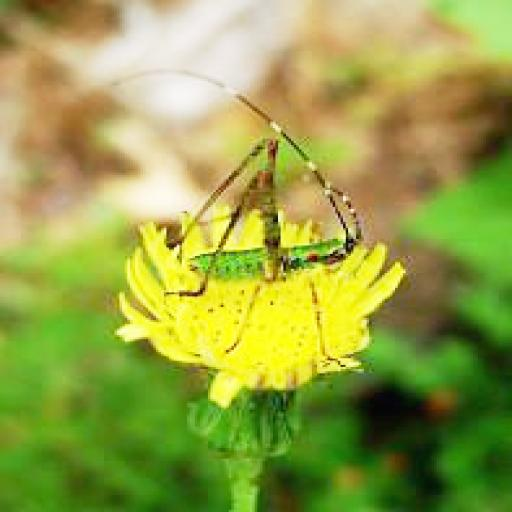dandelion: (114, 198, 406, 376)
